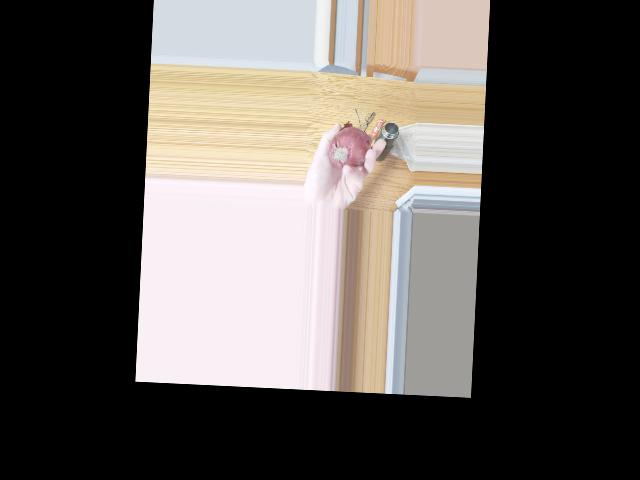onion: (327, 130, 368, 169)
